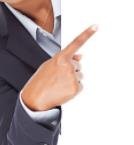up: (17, 23, 104, 110)
